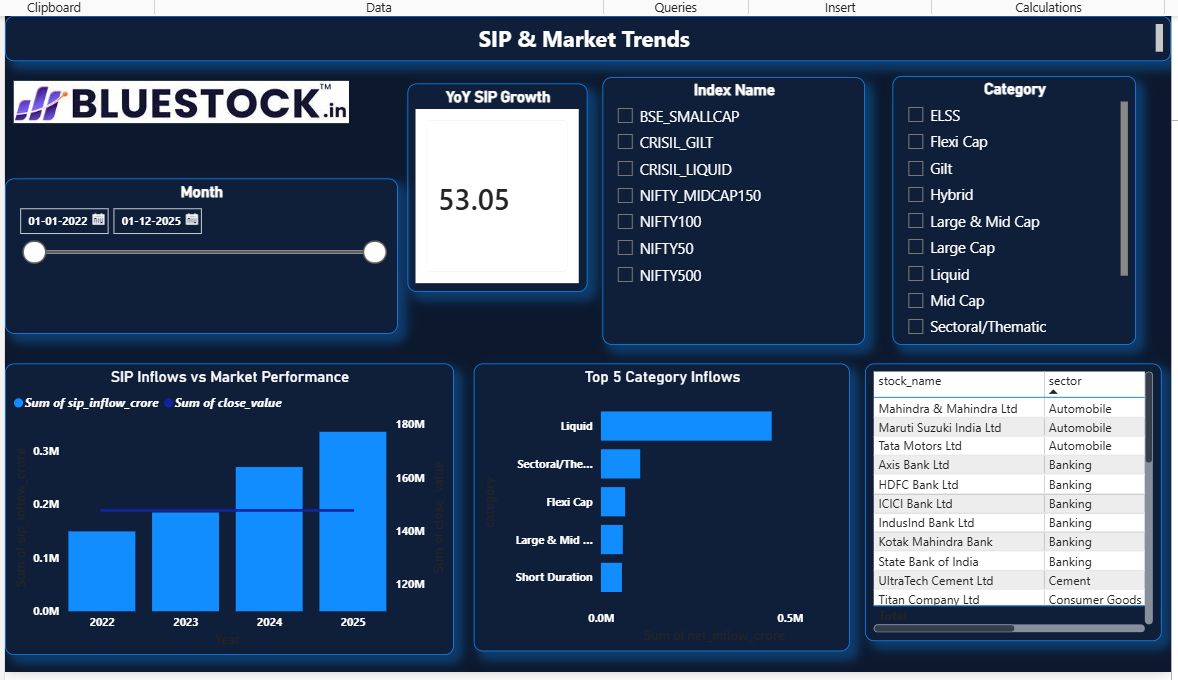

What the dashboard file says about the page in this screenshot:
{"tool":"powerbi","page":{"name":"Page 4","canvas":[1280,720],"ordinal":3},"visuals":[{"type":"textbox","box":[0,0,1280.3,49.4],"z":0},{"type":"lineClusteredColumnComboChart","title":"SIP Inflows vs Market Performance","fields":{"Category":["04_monthly_sip_inflows_clean.month.Variation.Date Hierarchy.Year","04_monthly_sip_inflows_clean.month.Variation.Date Hierarchy.Quarter","04_monthly_sip_inflows_clean.month.Variation.Date Hierarchy.Month","04_monthly_sip_inflows_clean.month.Variation.Date Hierarchy.Day"],"Y":["Sum(04_monthly_sip_inflows_clean.sip_inflow_crore)"],"Y2":["Sum(10_benchmark_indices_clean.close_value)"]},"box":[0,381.5,492.6,319.7],"z":1000},{"type":"clusteredBarChart","title":"Top 5 Category Inflows","fields":{"Category":["05_category_inflows_clean.category"],"Y":["Sum(05_category_inflows_clean.net_inflow_crore)"]},"box":[514.6,381.5,413,315.6],"z":2000},{"type":"cardVisual","title":"YoY SIP Growth","fields":{"Data":["Max(04_monthly_sip_inflows_clean.yoy_growth_pct)"]},"box":[441.9,74.1,197.6,229.2],"z":3000},{"type":"tableEx","fields":{"Values":["09_portfolio_holdings_clean.stock_name","09_portfolio_holdings_clean.sector","Sum(09_portfolio_holdings_clean.weight_pct)","Sum(09_portfolio_holdings_clean.market_value_cr)"]},"box":[944.1,381.5,325.2,304.6],"z":4000},{"type":"slicer","title":"Month","fields":{"Values":["04_monthly_sip_inflows_clean.month"]},"box":[0,178.4,430.9,170.2],"z":5000},{"type":"slicer","title":"Category","fields":{"Values":["05_category_inflows_clean.category"]},"box":[974.3,65.9,267.6,295],"z":6000},{"type":"slicer","title":"Index Name","fields":{"Values":["10_benchmark_indices_clean.index_name"]},"box":[655.9,67.2,288.2,293.7],"z":7000},{"type":"image","box":[9.6,0,367.8,189.4],"z":8000}]}

Visuals, with their boxes in screenshot pixels (x1, y1, x2, y2):
textbox: (left=0, top=12, right=1177, bottom=59)
"SIP Inflows vs Market Performance" lineClusteredColumnComboChart: (left=0, top=371, right=464, bottom=672)
"Top 5 Category Inflows" clusteredBarChart: (left=484, top=371, right=873, bottom=668)
"YoY SIP Growth" cardVisual: (left=416, top=82, right=602, bottom=298)
tableEx - 09_portfolio_holdings_clean.stock_name x 09_portfolio_holdings_clean.sector: (left=888, top=371, right=1177, bottom=658)
"Month" slicer: (left=0, top=180, right=405, bottom=340)
"Category" slicer: (left=917, top=74, right=1169, bottom=352)
"Index Name" slicer: (left=617, top=76, right=888, bottom=352)
image: (left=9, top=12, right=355, bottom=190)
